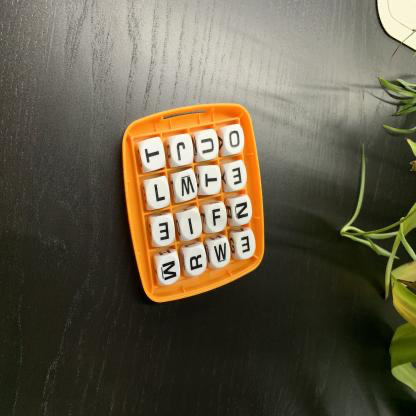e: (153, 217, 176, 247), (228, 162, 248, 191), (237, 232, 257, 260)
f: (208, 205, 228, 233)
i: (182, 212, 203, 241)
j: (171, 135, 194, 166)
l: (147, 179, 171, 210)
m: (159, 255, 181, 286)
n: (233, 198, 253, 225)
o: (225, 125, 245, 154)
r: (187, 248, 208, 276)
t: (141, 140, 166, 171), (201, 167, 222, 195)
u: (198, 130, 220, 160)
w: (176, 171, 198, 202), (211, 241, 232, 268)
